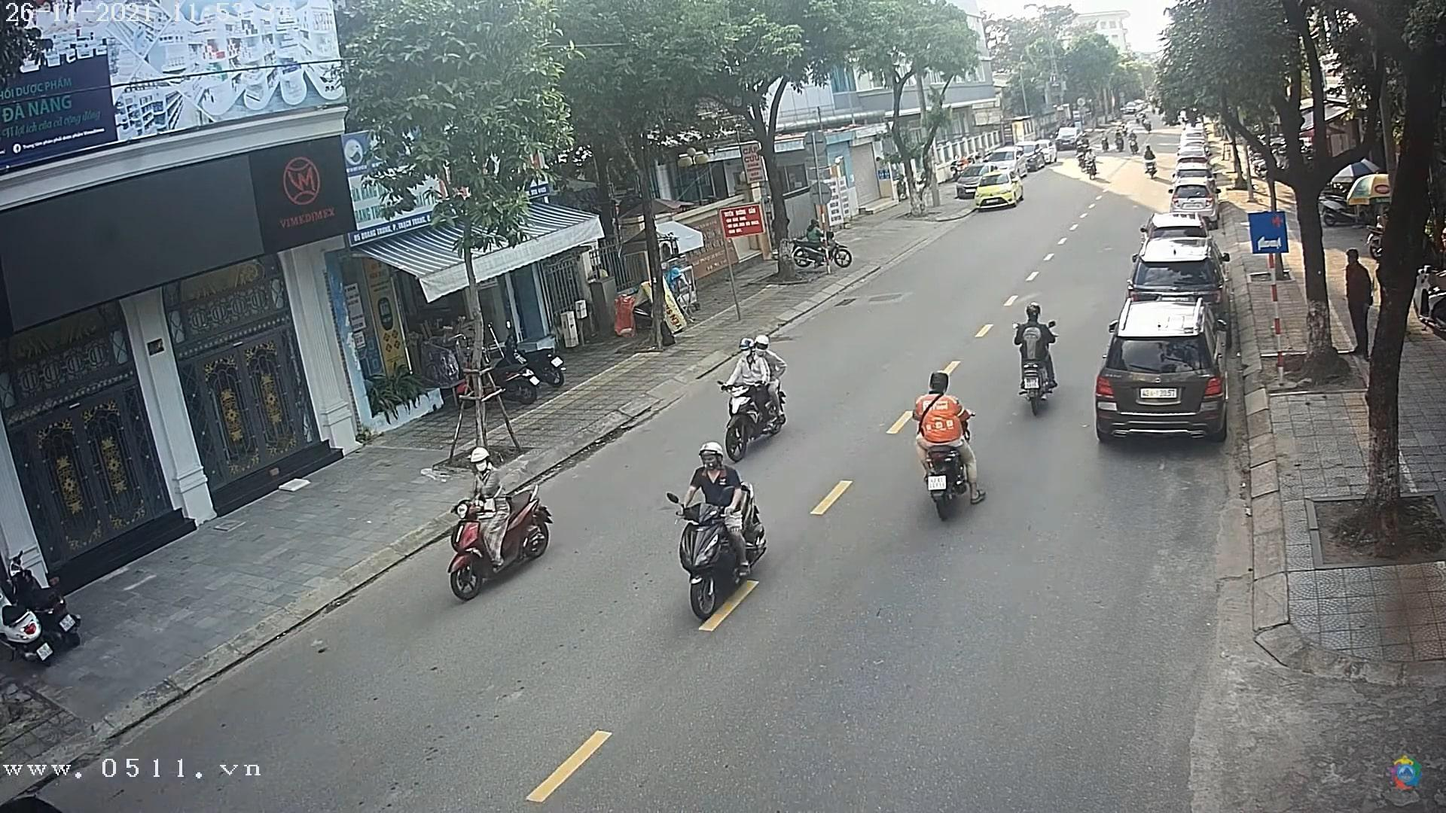car: (1097, 319, 1224, 443), (1131, 233, 1217, 289)
motorbike: (441, 488, 553, 607), (675, 484, 768, 616), (721, 360, 793, 462), (922, 438, 983, 510), (1014, 352, 1060, 417)
